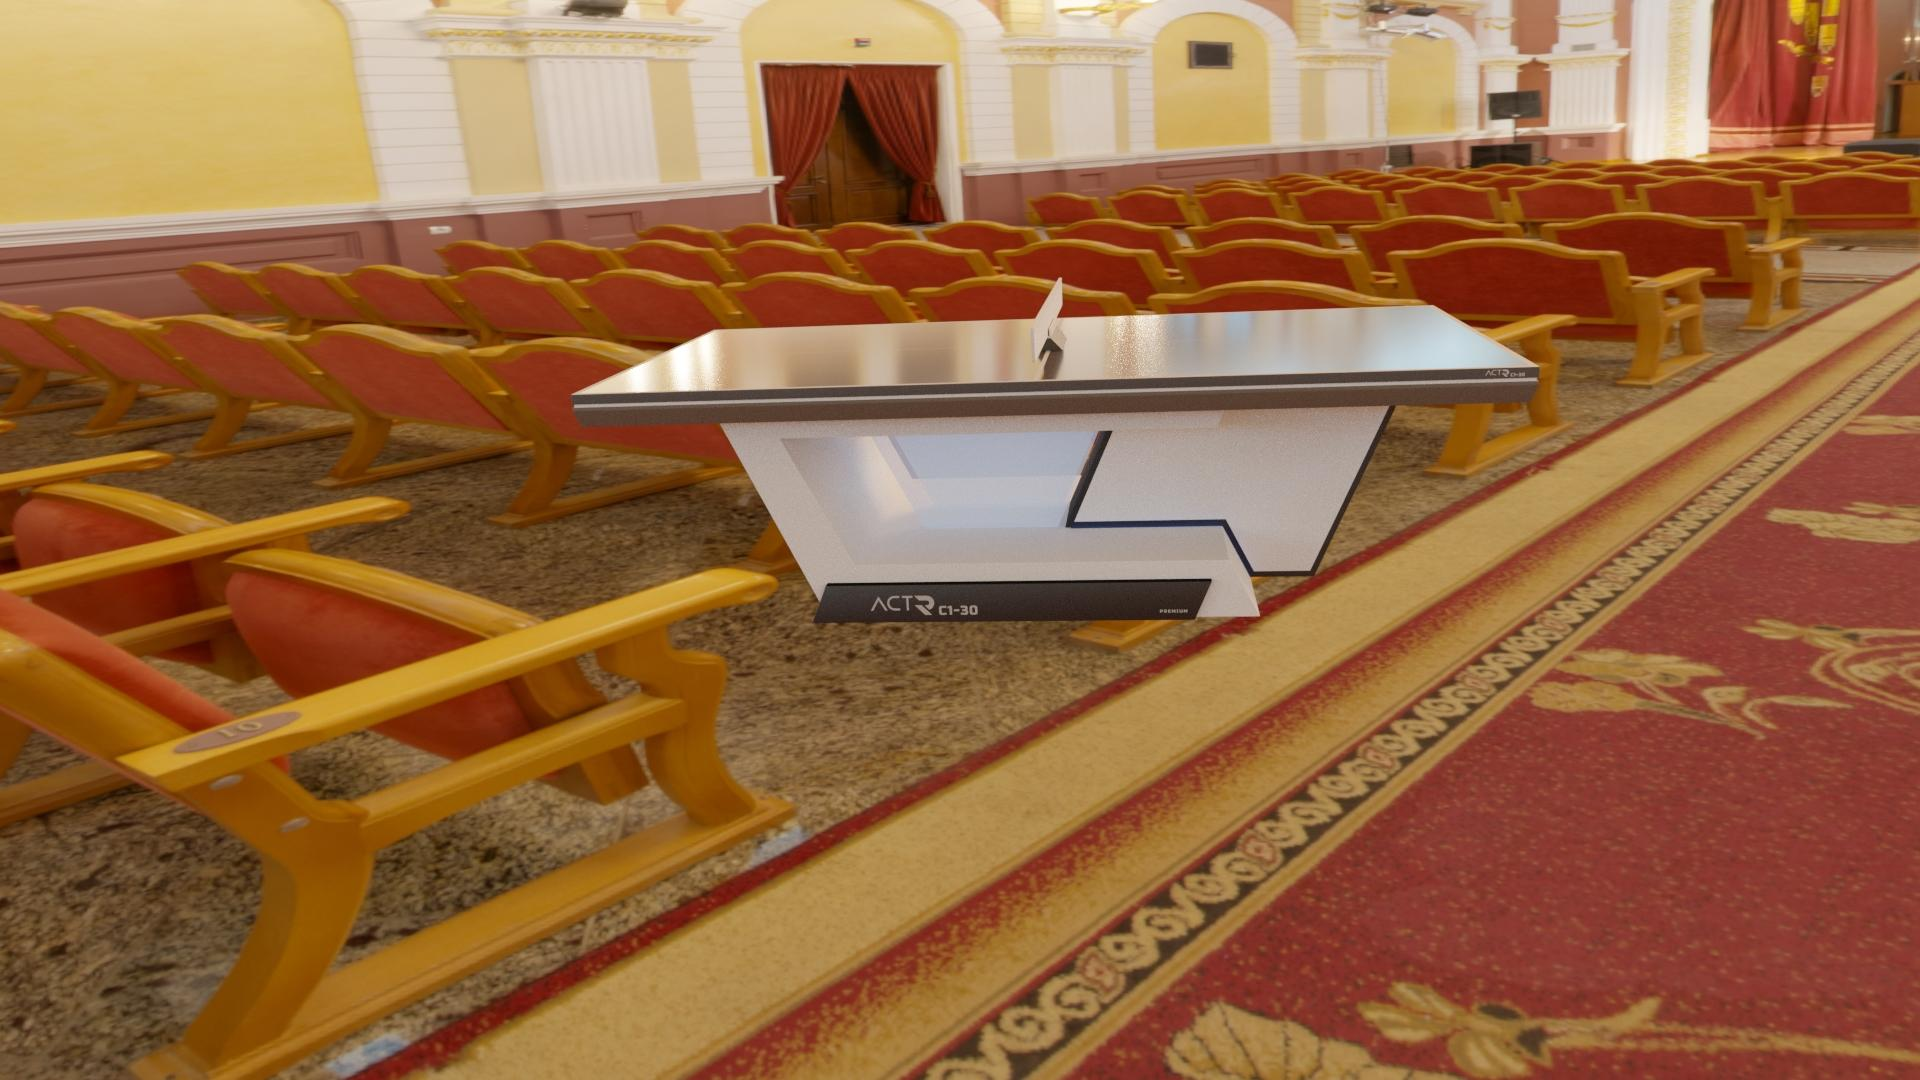table: (579, 306, 1531, 393)
